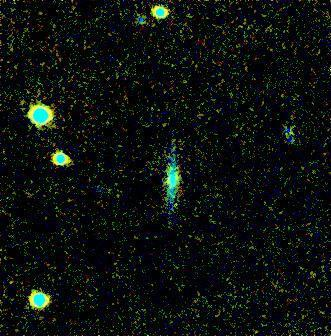star: (161, 189, 191, 219)
